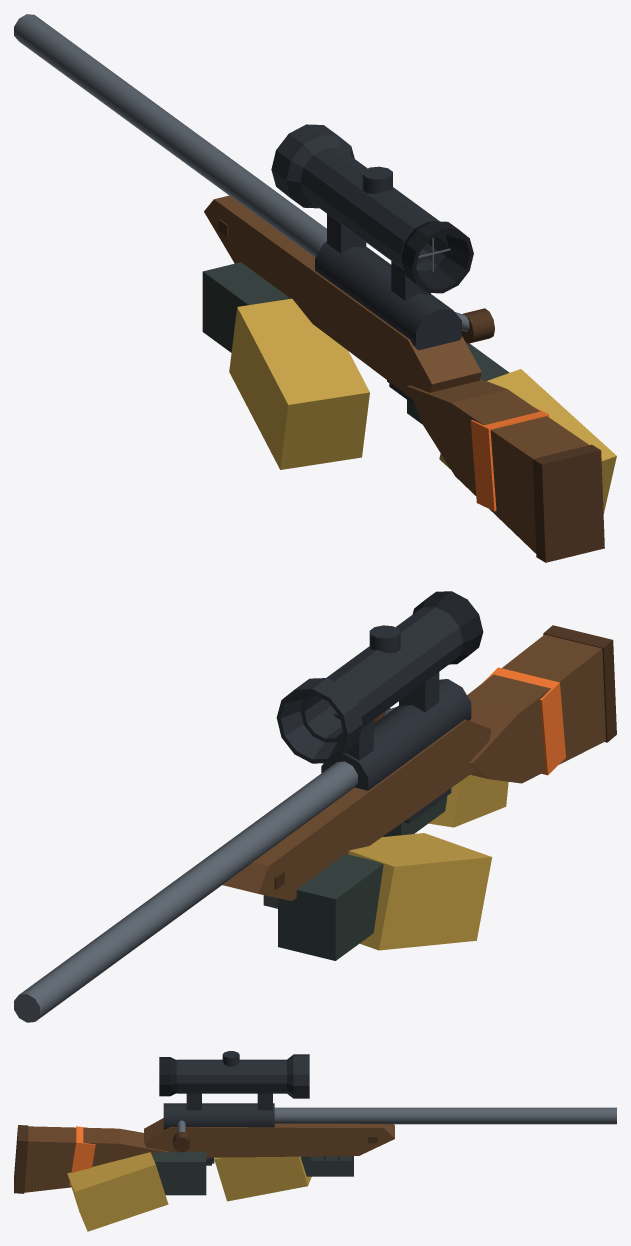
Rendered from hunting_rifle.glb.
3 views of the same model, one above another, from view 1: azimuth 30°, elevation 25°; view 2: azimuth 150°, elevation 25°; view 3: azimuth 270°, elevation 25° (orthographic). The views are drawn at different scales.
Visible parts, largest first — view 1: _MeshInstance3D_3528, _MeshInstance3D_3506, _MeshInstance3D_3507, _MeshInstance3D_3510, _MeshInstance3D_3512, _MeshInstance3D_3508, _MeshInstance3D_3511, _MeshInstance3D_3527, _MeshInstance3D_3522, _MeshInstance3D_3521, _MeshInstance3D_3534, _MeshInstance3D_3509 (+5 smaller); view 2: _MeshInstance3D_3506, _MeshInstance3D_3510, _MeshInstance3D_3507, _MeshInstance3D_3528, _MeshInstance3D_3512, _MeshInstance3D_3527, _MeshInstance3D_3511, _MeshInstance3D_3521, _MeshInstance3D_3534, _MeshInstance3D_3509, _MeshInstance3D_3522, _MeshInstance3D_3508 (+4 smaller); view 3: _MeshInstance3D_3506, _MeshInstance3D_3510, _MeshInstance3D_3534, _MeshInstance3D_3507, _MeshInstance3D_3512, _MeshInstance3D_3528, _MeshInstance3D_3511, _MeshInstance3D_3533, _MeshInstance3D_3521, _MeshInstance3D_3527, _MeshInstance3D_3508, _MeshInstance3D_3509 (+4 smaller).
Boxes of the visible parts, box(x1,y1,x2,y2) form: _MeshInstance3D_3528: box(229, 298, 369, 469); _MeshInstance3D_3506: box(204, 195, 481, 398); _MeshInstance3D_3507: box(407, 379, 589, 553); _MeshInstance3D_3510: box(14, 14, 326, 257); _MeshInstance3D_3512: box(300, 148, 447, 270); _MeshInstance3D_3508: box(532, 444, 604, 562); _MeshInstance3D_3511: box(315, 241, 461, 350); _MeshInstance3D_3527: box(202, 262, 289, 352); _MeshInstance3D_3522: box(401, 221, 473, 293); _MeshInstance3D_3521: box(271, 124, 354, 208); _MeshInstance3D_3534: box(439, 369, 616, 513); _MeshInstance3D_3509: box(471, 407, 549, 511); _MeshInstance3D_3506: box(222, 719, 491, 900); _MeshInstance3D_3510: box(14, 761, 357, 1022); _MeshInstance3D_3507: box(467, 634, 605, 783); _MeshInstance3D_3528: box(348, 833, 492, 950); _MeshInstance3D_3512: box(300, 607, 463, 742); _MeshInstance3D_3527: box(278, 854, 383, 960); _MeshInstance3D_3511: box(321, 679, 471, 790); _MeshInstance3D_3521: box(276, 678, 362, 763); _MeshInstance3D_3534: box(428, 774, 508, 827); _MeshInstance3D_3509: box(483, 667, 565, 775); _MeshInstance3D_3522: box(412, 591, 483, 664); _MeshInstance3D_3508: box(543, 625, 616, 742); _MeshInstance3D_3506: box(144, 1118, 394, 1157); _MeshInstance3D_3510: box(274, 1107, 616, 1124); _MeshInstance3D_3534: box(67, 1152, 168, 1231); _MeshInstance3D_3507: box(24, 1126, 167, 1192); _MeshInstance3D_3512: box(176, 1059, 286, 1093); _MeshInstance3D_3528: box(214, 1156, 311, 1201); _MeshInstance3D_3511: box(163, 1103, 274, 1129); _MeshInstance3D_3533: box(153, 1151, 206, 1195); _MeshInstance3D_3521: box(287, 1054, 309, 1098); _MeshInstance3D_3527: box(301, 1156, 353, 1176); _MeshInstance3D_3508: box(14, 1125, 28, 1193); _MeshInstance3D_3509: box(69, 1126, 95, 1185).
Bounding box in the file's own units: 0.1445 × 0.1967 × 0.7064.
